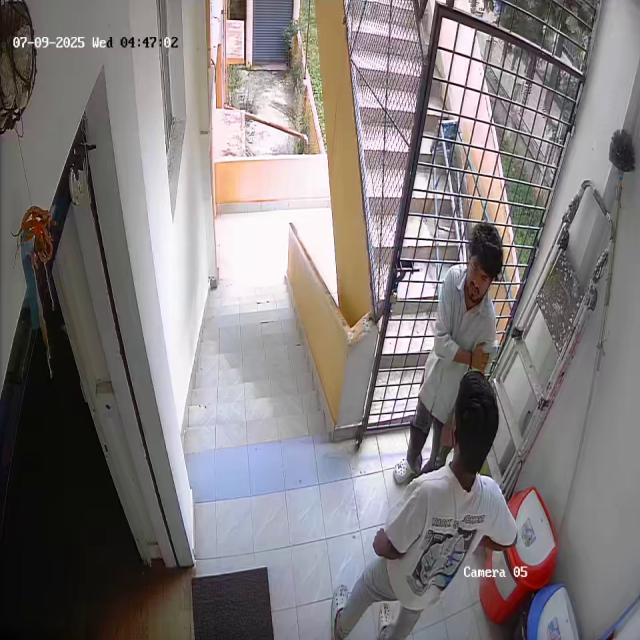person: (319, 387, 512, 640), (392, 226, 502, 477)
